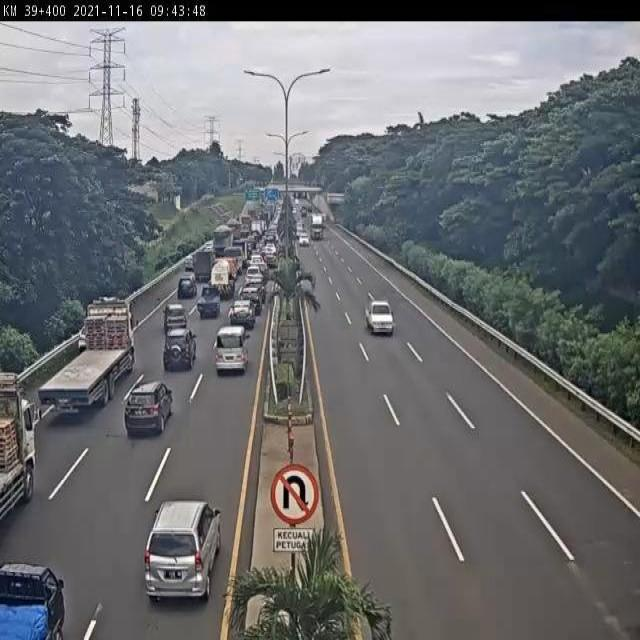Car: (142, 499, 228, 611), (121, 378, 175, 440), (163, 328, 201, 370), (364, 297, 396, 335), (160, 303, 190, 329), (238, 284, 263, 312), (198, 285, 220, 316), (228, 301, 254, 323), (177, 270, 196, 298), (242, 266, 264, 284), (299, 232, 311, 248), (252, 253, 264, 265)
Truck: (36, 294, 135, 414), (1, 363, 37, 535), (0, 547, 65, 640), (210, 256, 238, 296), (191, 250, 214, 282), (212, 226, 234, 254), (310, 211, 326, 245)
Van: (213, 324, 252, 376)
